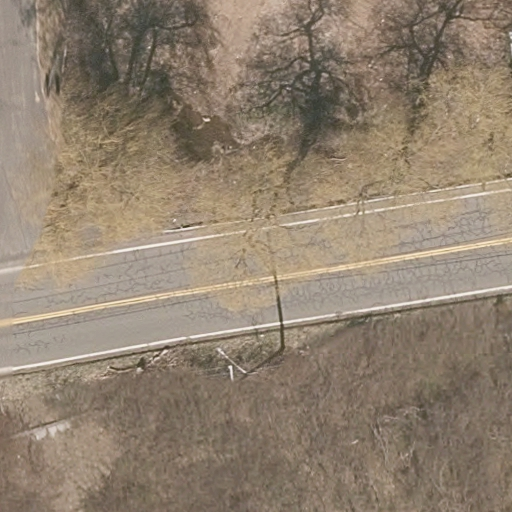DT: (215, 340, 282, 382)
